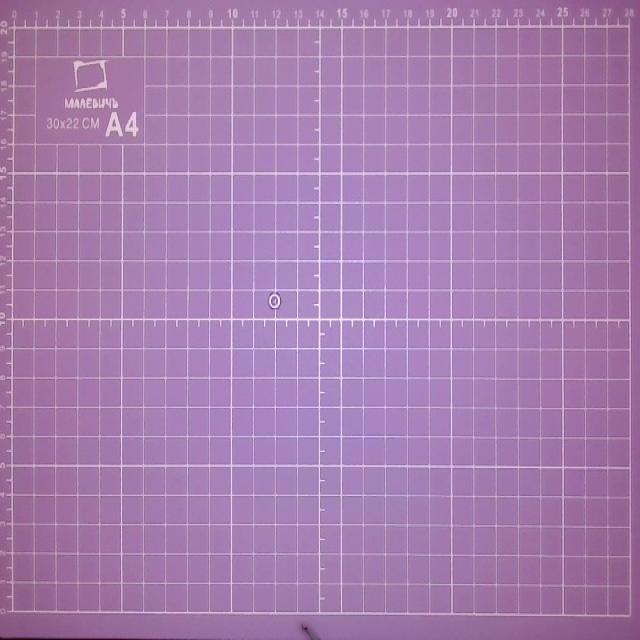screw_M3: (268, 292, 282, 310)
